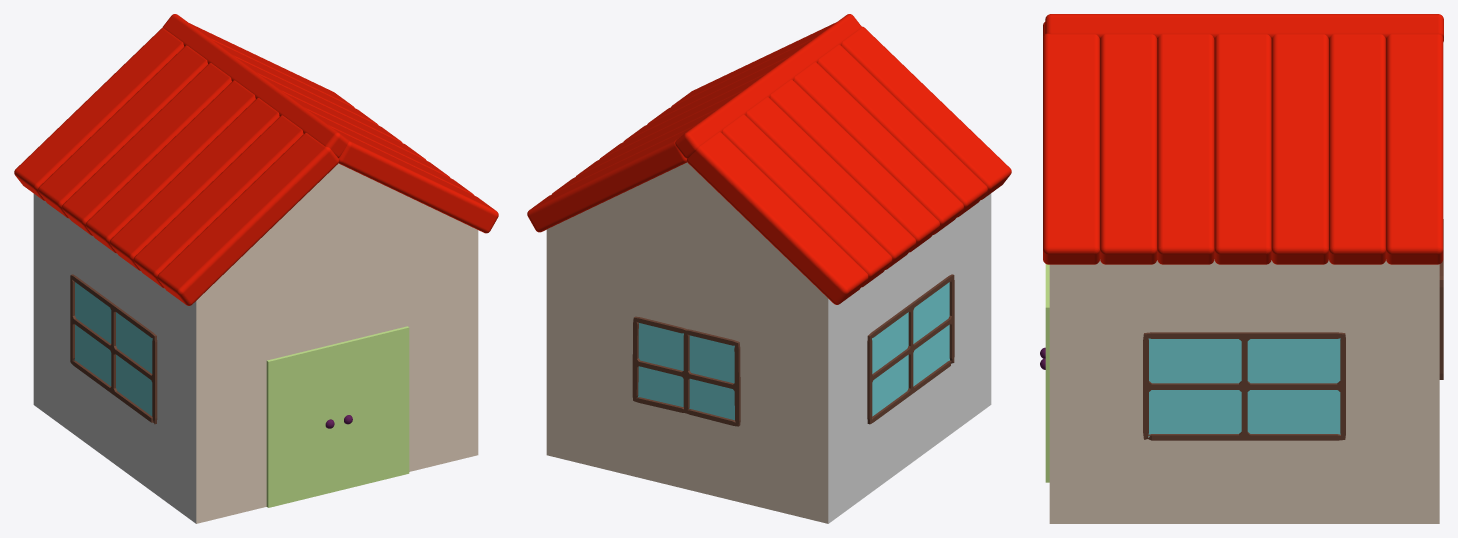
Rendered from home.fbx.
3 renders of one model, left to right at view 1: azimuth 30°, elevation 25°; view 2: azimuth 150°, elevation 25°; view 3: azimuth 270°, elevation 25°, orthographic. The views are drawn at different scales.
Parts seen in each view (by area): view 1: 立方体.018, 立方体.019, 球, 球.001, 立方体.001, 立方体.012, 立方体.015, 立方体.016, 立方体.013, 立方体.017, 立方体.014, 立方体.004 (+12 smaller); view 2: 立方体.020, 立方体.019, 立方体.012, 立方体.001, 立方体.013, 立方体.015, 立方体.014, 立方体.017, 立方体.016, 立方体.011, 立方体.002, 立方体.005 (+15 smaller); view 3: 立方体.027, 立方体.011, 立方体.006, 立方体.007, 立方体.008, 立方体.009, 立方体.004, 立方体.010, 立方体.002, 立方体.034, 立方体.028, 立方体.031 (+4 smaller).
Part boxes in pixels (box(x1,y1,x2,y2)): 立方体.018: box(196, 163, 478, 523); 立方体.019: box(33, 194, 196, 523); 球: box(266, 343, 338, 507); 球.001: box(337, 326, 409, 490); 立方体.001: box(157, 133, 339, 305); 立方体.012: box(14, 28, 184, 200); 立方体.015: box(86, 80, 255, 253); 立方体.016: box(109, 98, 279, 270); 立方体.013: box(38, 45, 207, 218); 立方体.017: box(133, 115, 303, 288); 立方体.014: box(62, 63, 231, 235); 立方体.004: box(333, 128, 498, 233); 立方体.020: box(546, 162, 828, 523); 立方体.019: box(828, 193, 991, 523); 立方体.012: box(686, 132, 868, 304); 立方体.001: box(841, 26, 1011, 199); 立方体.013: box(722, 114, 892, 287); 立方体.015: box(770, 79, 939, 252); 立方体.014: box(746, 97, 916, 269); 立方体.017: box(818, 44, 987, 217); 立方体.016: box(794, 62, 963, 234); 立方体.011: box(527, 127, 692, 232); 立方体.002: box(675, 14, 861, 158); 立方体.005: box(632, 316, 740, 426); 立方体.027: box(1049, 259, 1439, 523); 立方体.011: box(1386, 34, 1443, 264); 立方体.006: box(1100, 34, 1157, 264); 立方体.007: box(1157, 34, 1214, 264); 立方体.008: box(1214, 34, 1271, 264); 立方体.009: box(1271, 34, 1328, 264); 立方体.004: box(1043, 33, 1099, 264); 立方体.010: box(1329, 34, 1385, 264); 立方体.002: box(1045, 14, 1443, 41); 立方体.034: box(1143, 332, 1345, 440); 立方体.028: box(1247, 338, 1340, 383); 立方体.031: box(1148, 338, 1241, 383).
Size of the model in its own units: 2.28 by 2.42 by 2.07.
